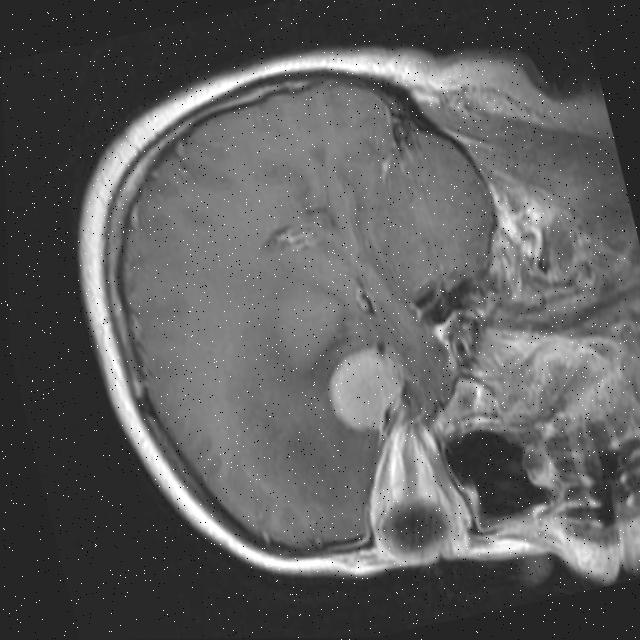Meningioma: (317, 338, 415, 443)
